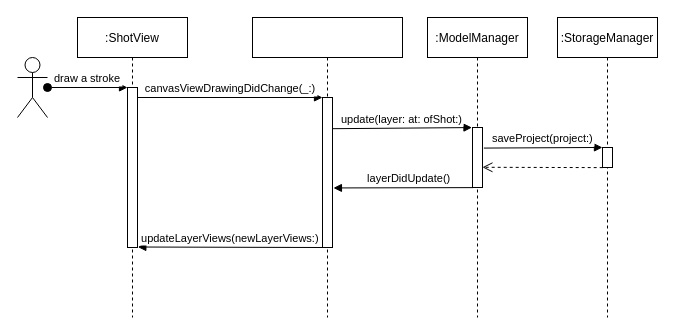
Some shapes in this 675 by 335 pixel diagram are drawn without their labels. The box of each missing label's shape, as (x1, y1, x2, y2) in pixels:
:ShotDesignerController: (252, 16, 402, 318)
User: (16, 56, 48, 118)
